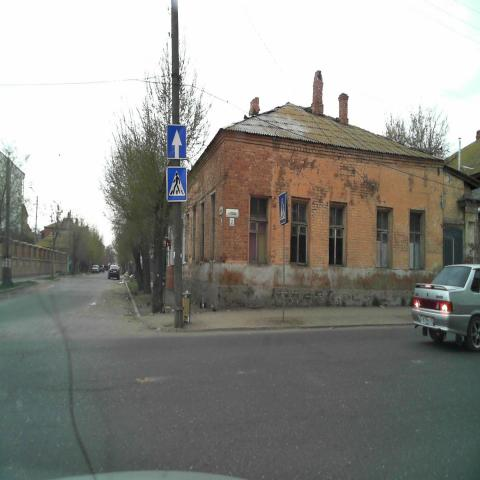5_5: (168, 125, 185, 158)
